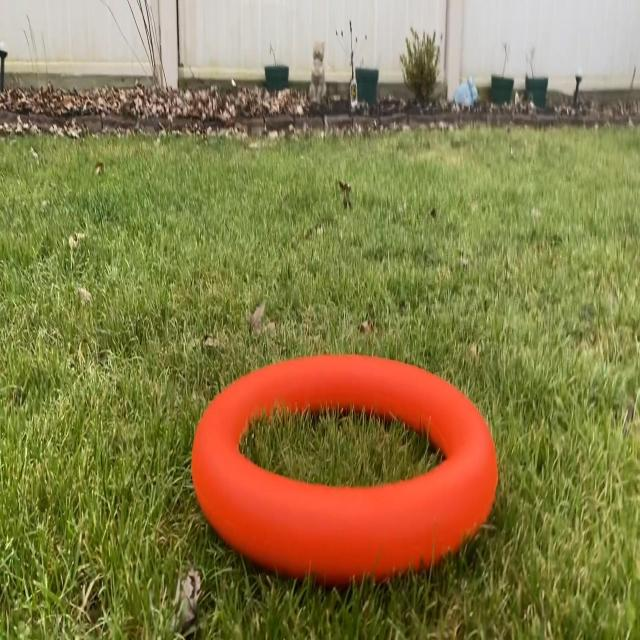note: (189, 351, 502, 590)
